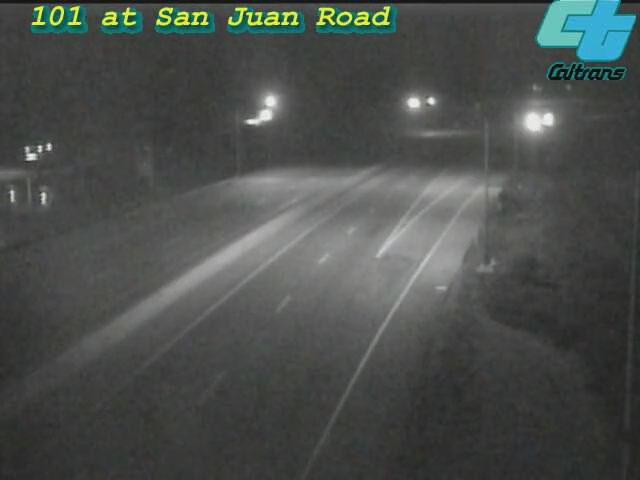vehicle: (509, 97, 559, 147), (524, 93, 574, 143)
